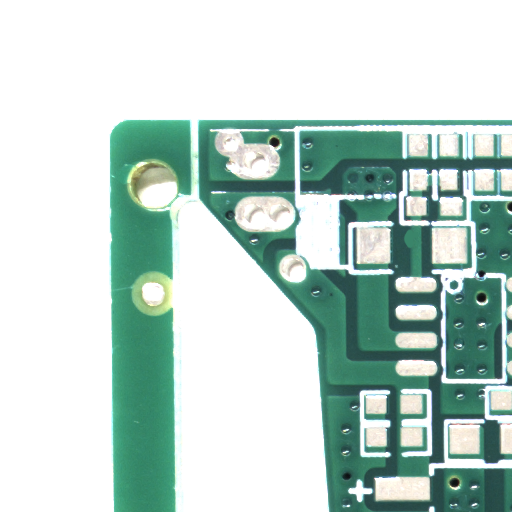Spur: (407, 238, 415, 255)
